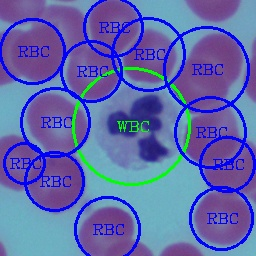RBC: (23, 87, 91, 155), (26, 152, 86, 213), (118, 26, 178, 86), (185, 26, 245, 86), (65, 38, 120, 98), (32, 0, 87, 60), (170, 54, 226, 112), (183, 106, 239, 164), (196, 188, 252, 245), (73, 204, 137, 253), (86, 0, 140, 58), (200, 136, 254, 193), (11, 24, 65, 80), (0, 130, 40, 191)
WBC: (92, 83, 179, 171)
